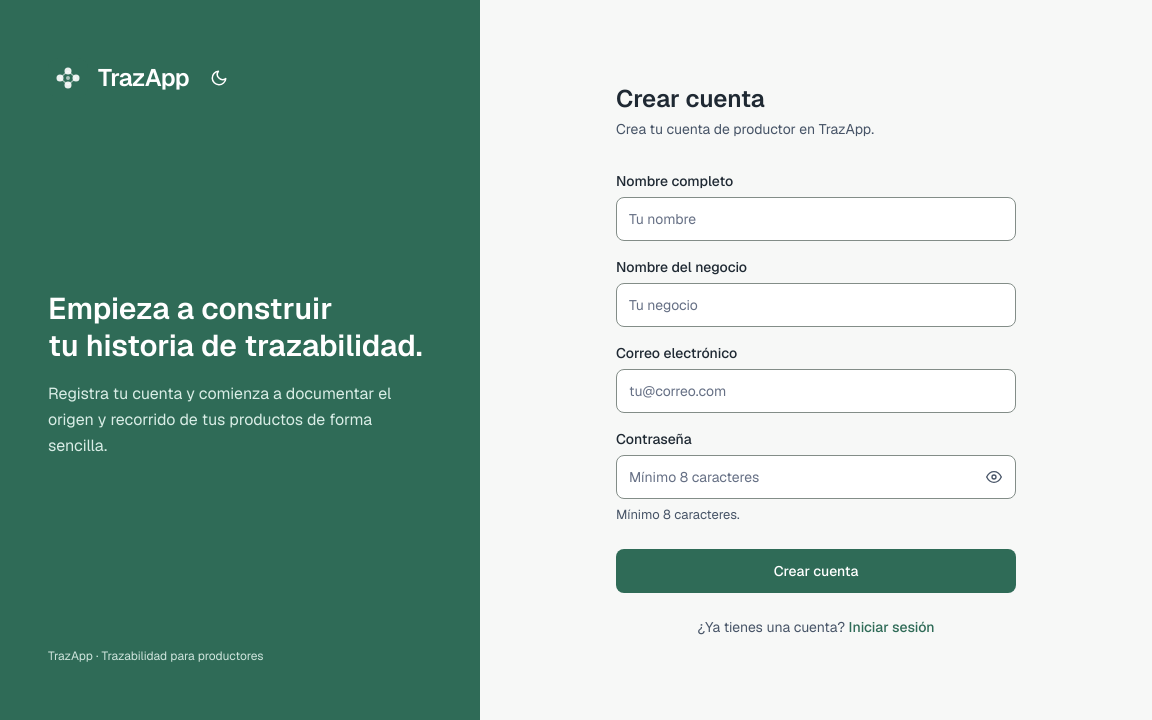
Scenario: Registro HU12 › valida contraseña mínima de 8 caracteres
This screenshot has width=1152, height=720.
Expected: the heading "Crear cuenta" is shown, [616,83,765,114]
Type "Ana Perez" into the field labelled "Nombre completo" at [816, 219], box [616,197,1016,241]
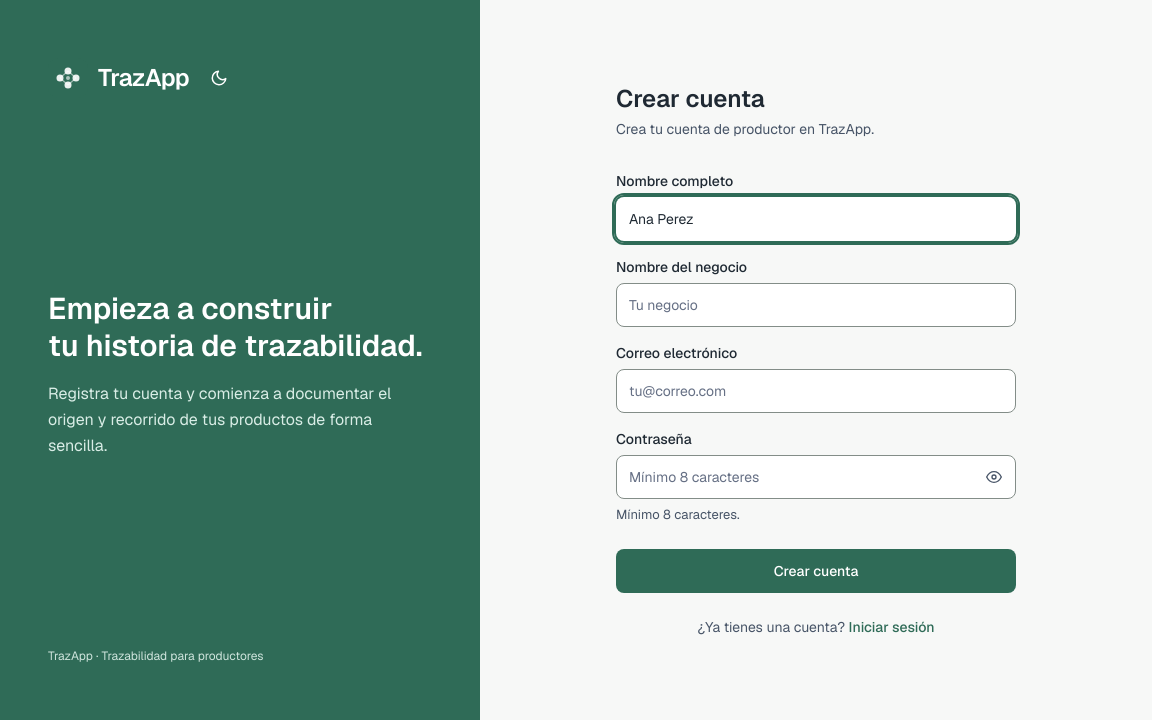
Type "Panaderia La Espiga" into the field labelled "Nombre del negocio" at [816, 305], box [616,283,1016,327]
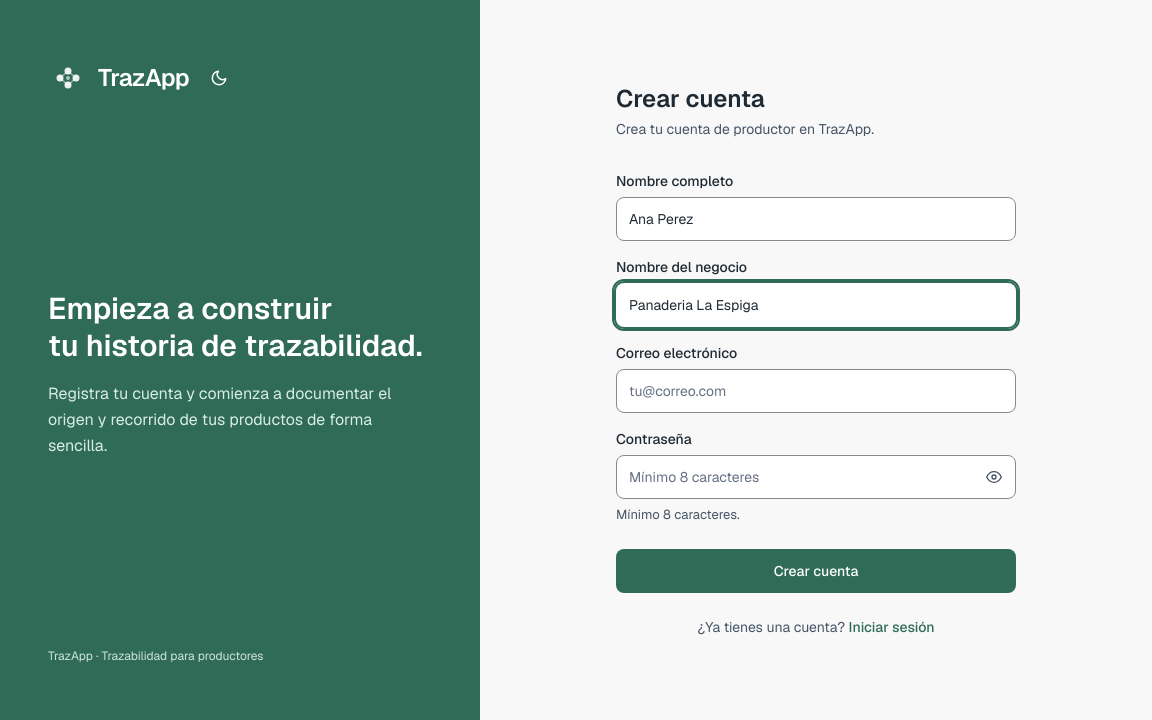
Type "ana@ejemplo.com" into the field labelled "Correo electrónico" at [816, 391], box [616,369,1016,413]
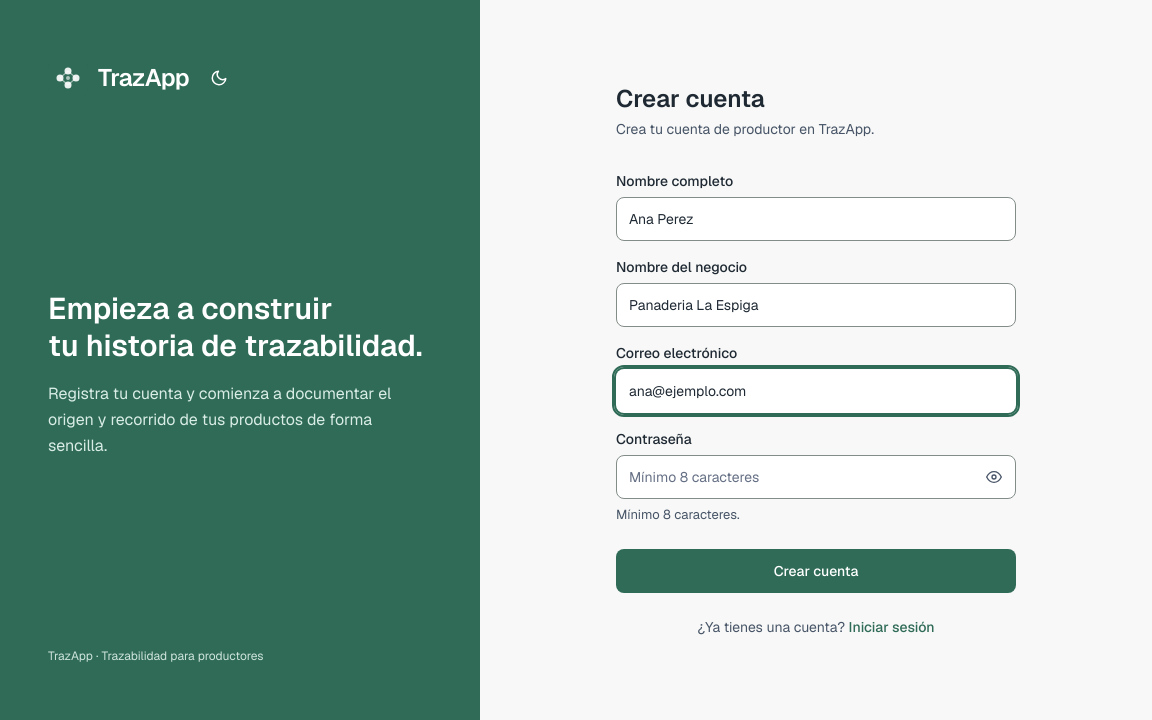
Type "corta" into the password field labelled "Contraseña" at [816, 477], box [616,455,1016,499]
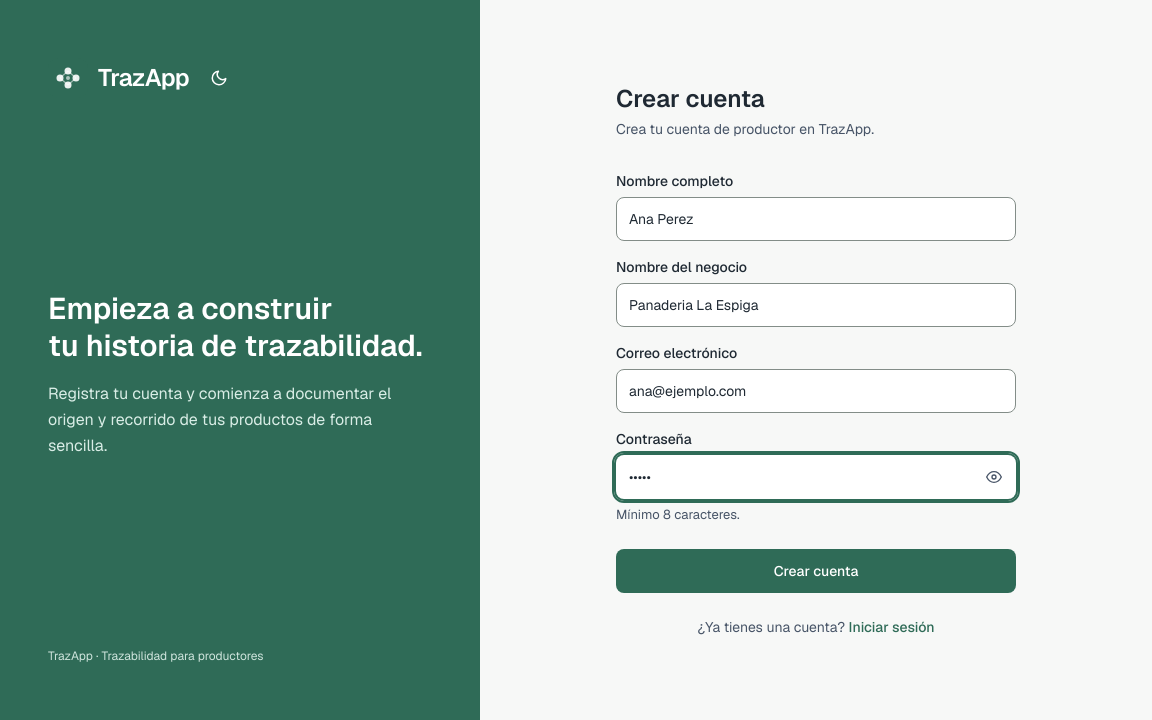
Click the button "Crear cuenta" at [816, 571], box [616,549,1016,593]
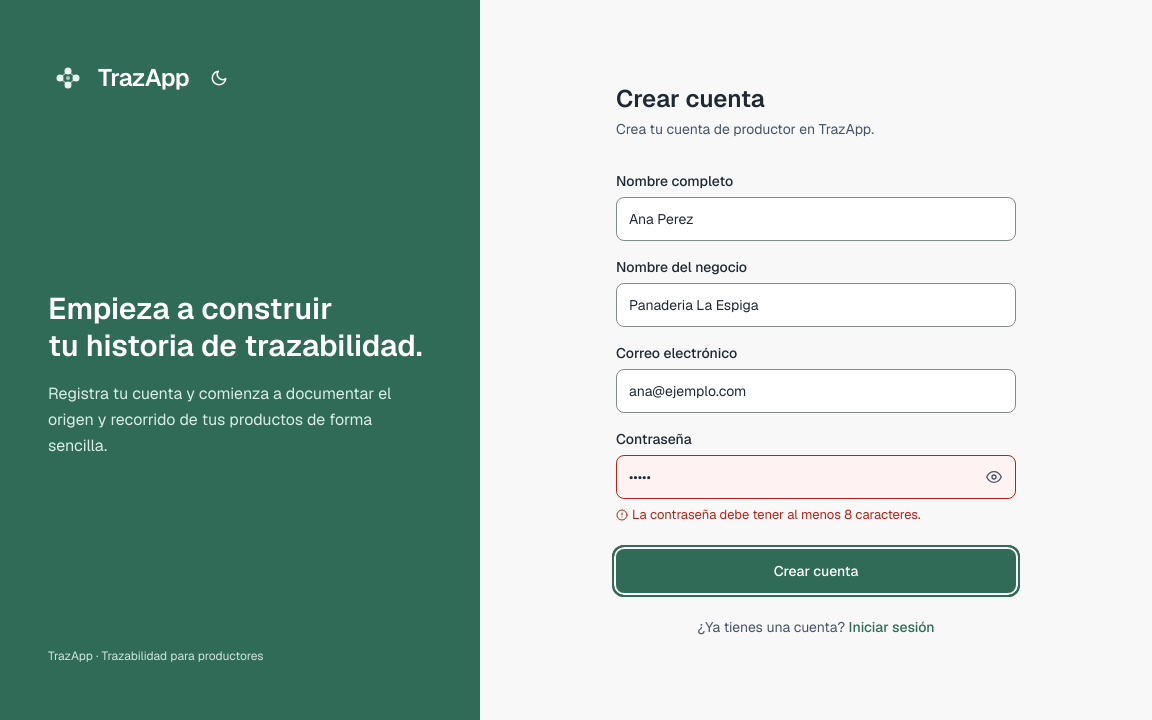
Expected: the text "La contraseña debe tener al menos 8 caracteres." is shown, [616,506,921,523]
